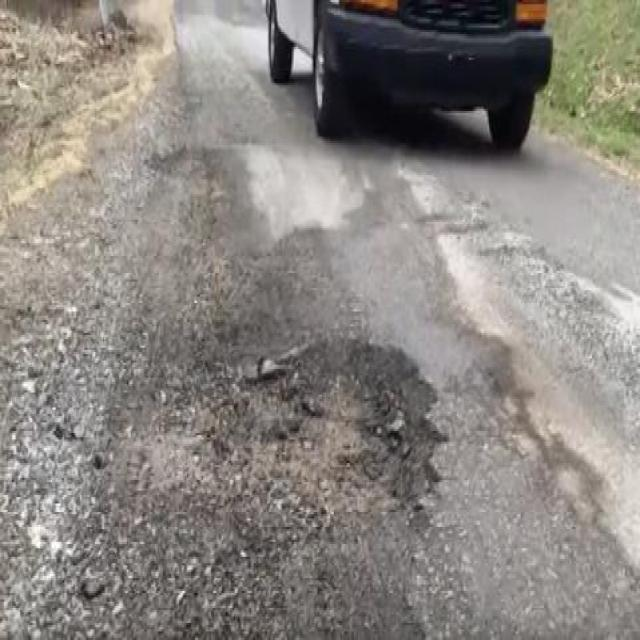pothole: (227, 333, 453, 533)
